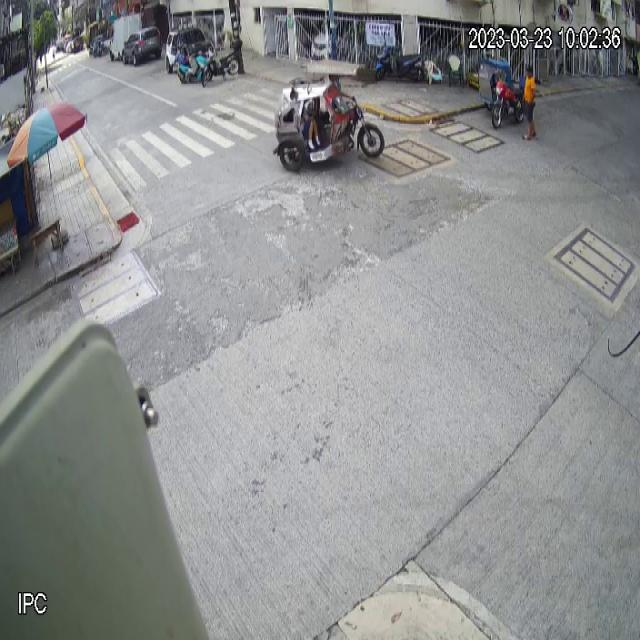Tricycle: (272, 60, 384, 173), (478, 56, 526, 130)
